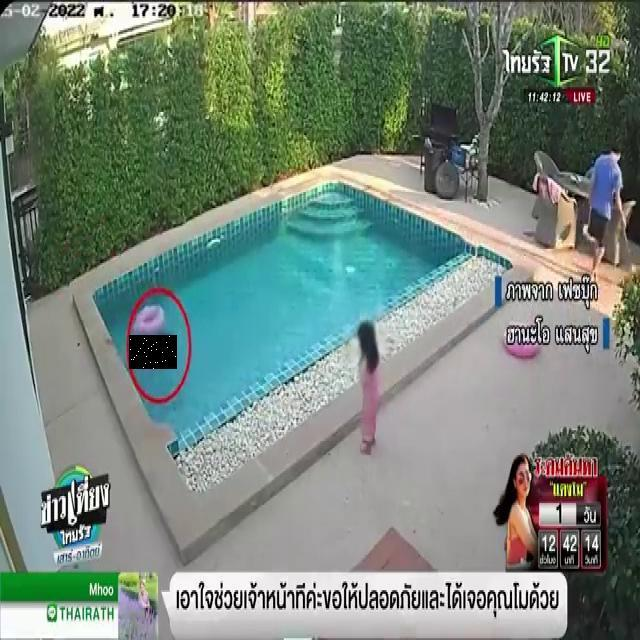Out of Water: (129, 335, 177, 369)
